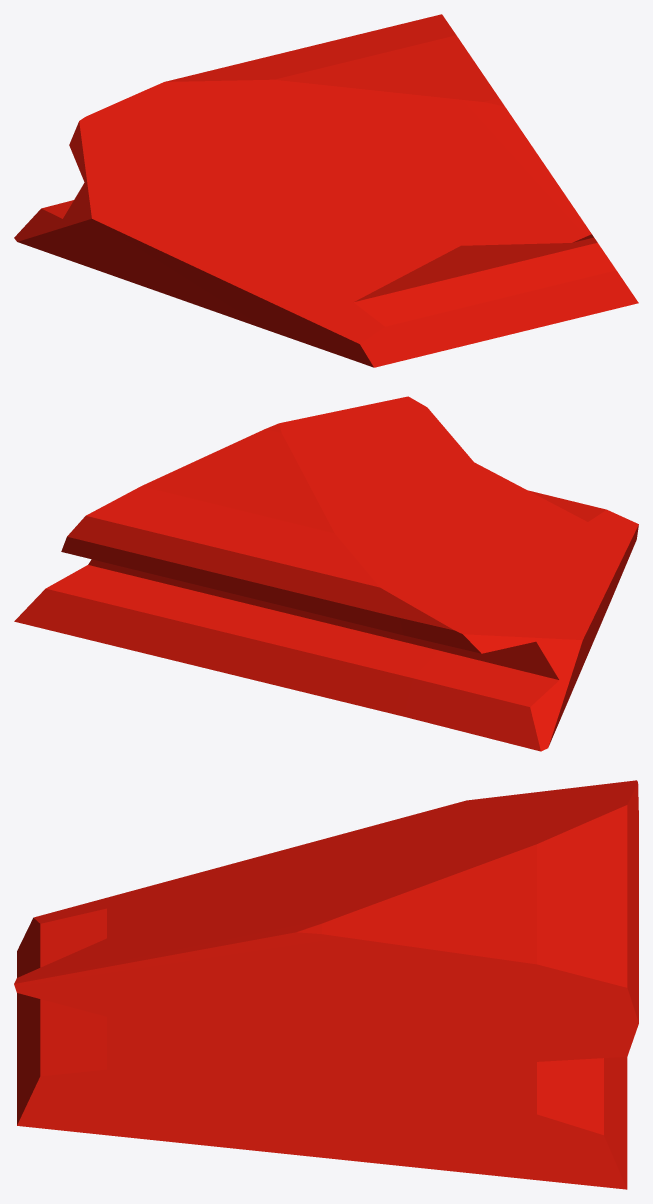
The model's file is SM_Fence1m_Half-Broken_01.020.fbx.
The picture shows the model from 3 angles, top to bottom: view 1: azimuth 30°, elevation 25°; view 2: azimuth 150°, elevation 25°; view 3: azimuth 270°, elevation 25°; orthographic projection. The views are drawn at different scales.
Parts seen in each view (by area): view 1: SM_Fence1m_Half-Broken_01.020; view 2: SM_Fence1m_Half-Broken_01.020; view 3: SM_Fence1m_Half-Broken_01.020.
Boxes of the visible parts, left/top/right/bottom form: SM_Fence1m_Half-Broken_01.020: left=14, top=14, right=638, bottom=367; SM_Fence1m_Half-Broken_01.020: left=14, top=396, right=638, bottom=751; SM_Fence1m_Half-Broken_01.020: left=14, top=780, right=638, bottom=1189.
Bounding box in the file's own units: 0.5204 × 0.1308 × 0.4187.
